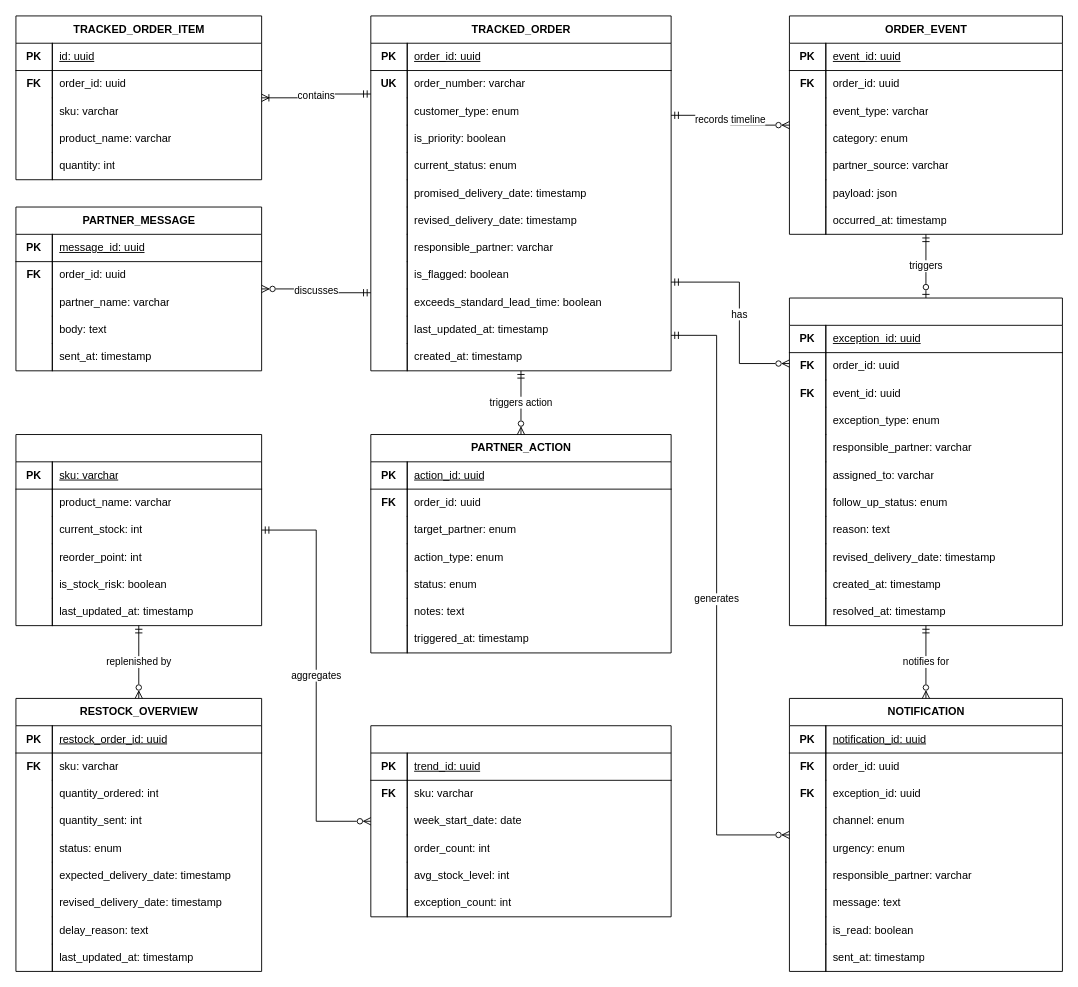
The diagram is 1078 pixels wide and 987 high, and some of its shapes have lost their labels. The shapes that lost their labels are listed below. From the top down, each one's box as (x1, y1, x2, y2) in pixels, then its label:
(789, 297, 1062, 626): ORDER_EXCEPTION
(15, 434, 262, 626): STOCK_SNAPSHOT
(370, 725, 671, 917): STOCK_TREND_WEEKLY
